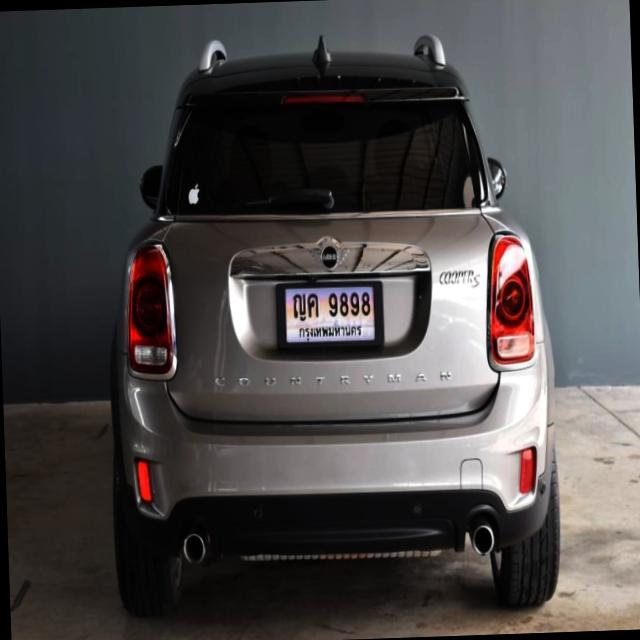license_plate: (278, 276, 380, 345)
